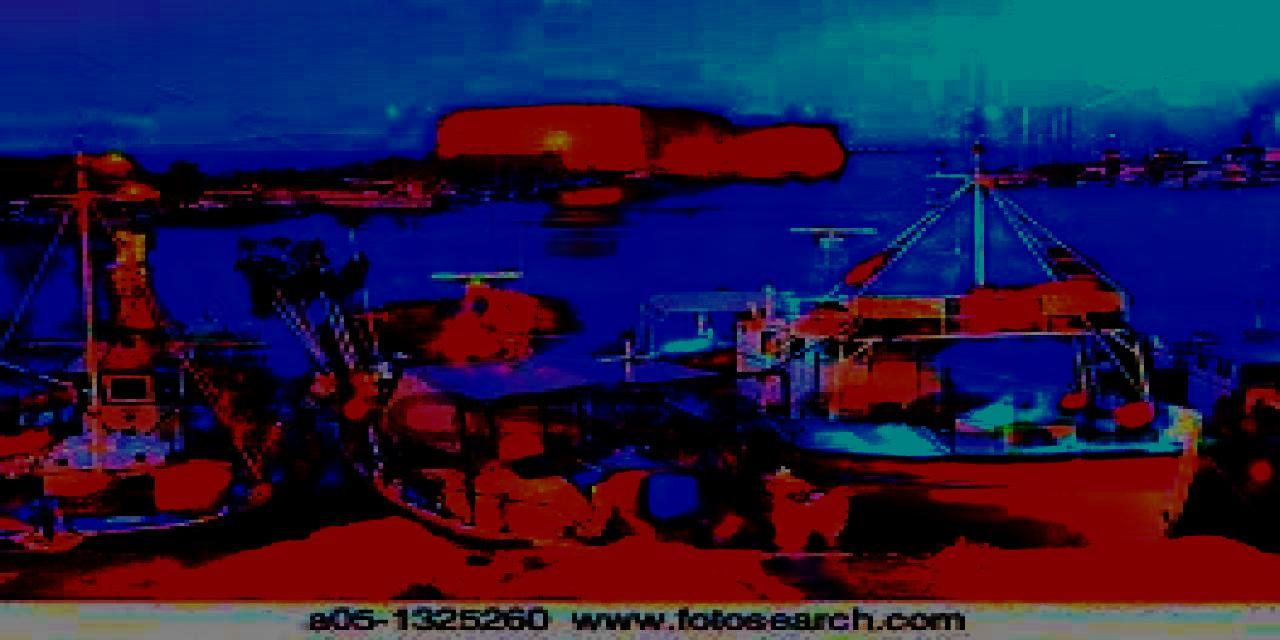Kules: (426, 103, 851, 181)
